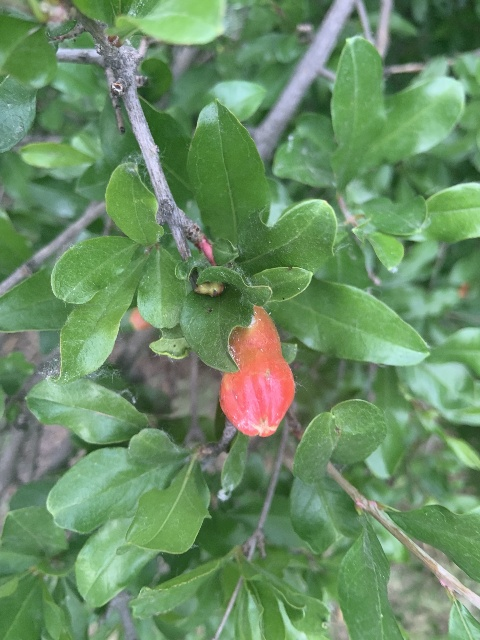bud: (220, 304, 294, 436)
